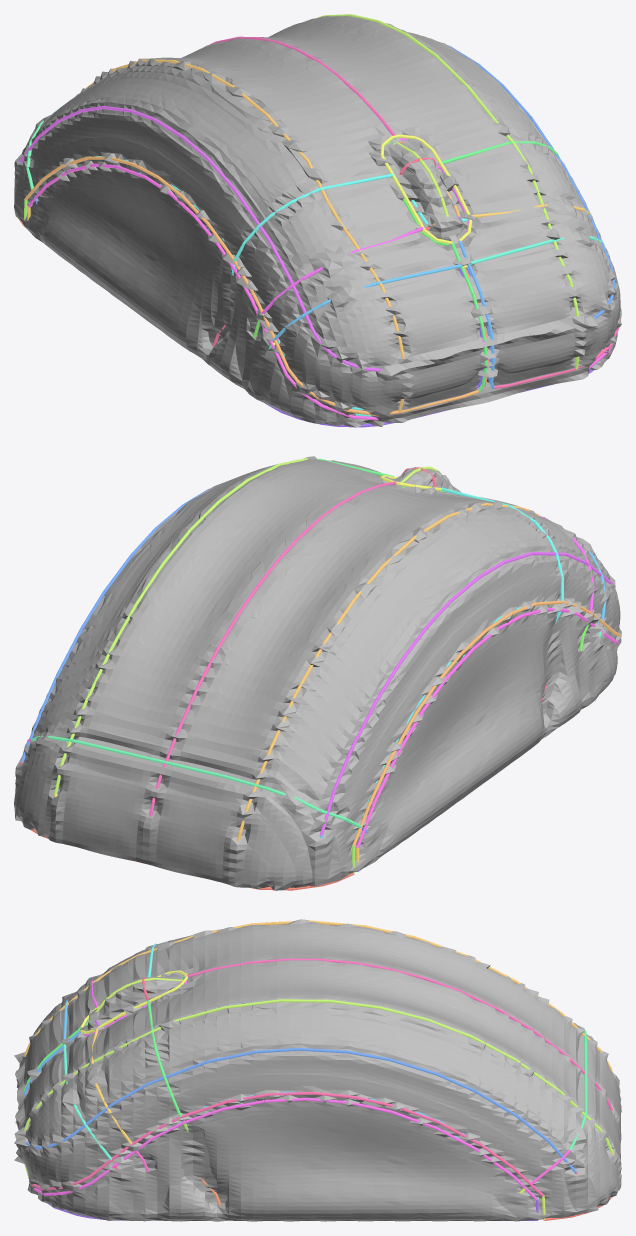
The model's file is flowrep_mouse.gltf.
The picture shows the model from 3 angles, top to bottom: view 1: azimuth 30°, elevation 25°; view 2: azimuth 150°, elevation 25°; view 3: azimuth 270°, elevation 25°; orthographic projection. The views are drawn at different scales.
Bounding box in the file's own units: 0.5073 × 0.3284 × 0.8553.
